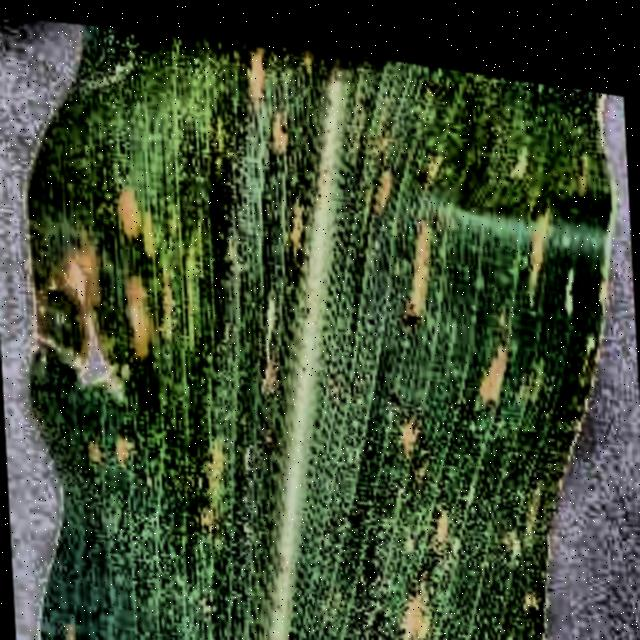gray_spot: (3, 0, 640, 640)
